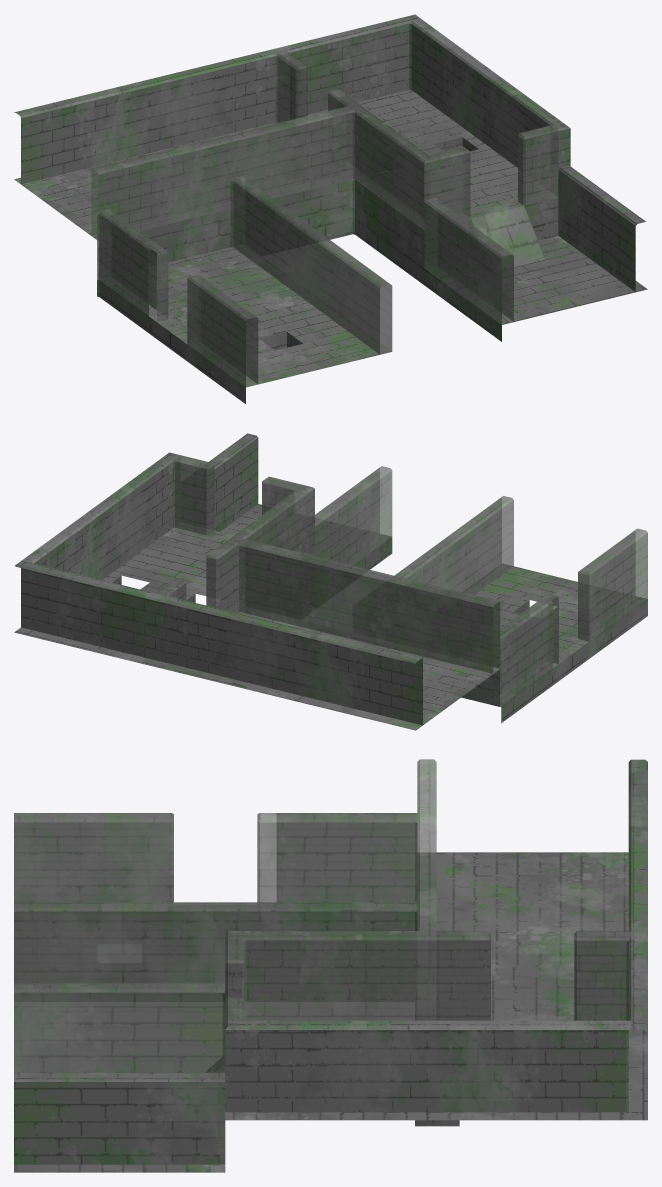
File: lvl_1-cnk_4.obj
The picture shows the model from 3 angles, top to bottom: view 1: azimuth 30°, elevation 25°; view 2: azimuth 150°, elevation 25°; view 3: azimuth 270°, elevation 25°; orthographic projection. The views are drawn at different scales.
Parts seen in each view (by area): view 1: Cube.036, Cube.041, Cube.037, Cube.046, Cube.044, Cube.045, Cube.039, Cube.040, Cube.047, Cube.043, Cube.042; view 2: Cube.037, Cube.041, Cube.036, Cube.044, Cube.046, Cube.040, Cube.045, Cube.047, Cube.039, Cube.043, Cube.042; view 3: Cube.044, Cube.036, Cube.041, Cube.046, Cube.039, Cube.045, Cube.047, Cube.040, Cube.037, Cube.042.
Boxes of the visible parts, x1,y1,x2,y2 form: Cube.036: (14, 90, 647, 403); Cube.041: (91, 89, 470, 240); Cube.037: (14, 14, 419, 184); Cube.046: (230, 176, 392, 354); Cube.044: (409, 18, 570, 196); Cube.045: (424, 198, 513, 324); Cube.039: (558, 165, 645, 291); Cube.040: (187, 275, 258, 386); Cube.047: (97, 209, 168, 322); Cube.043: (518, 125, 558, 205); Cube.042: (275, 51, 307, 122); Cube.037: (15, 560, 422, 725); Cube.041: (206, 476, 500, 673); Cube.036: (14, 504, 647, 730); Cube.044: (22, 452, 180, 579); Cube.046: (394, 496, 513, 595); Cube.040: (578, 528, 647, 641); Cube.045: (315, 466, 392, 565); Cube.047: (493, 594, 558, 706); Cube.039: (209, 433, 258, 531); Cube.043: (173, 454, 214, 535); Cube.042: (156, 578, 186, 600); Cube.044: (225, 1020, 631, 1112); Cube.036: (14, 852, 647, 1172); Cube.041: (225, 759, 490, 1020); Cube.046: (14, 902, 417, 983); Cube.039: (14, 1072, 225, 1164); Cube.045: (14, 983, 225, 1072); Cube.047: (257, 813, 417, 902); Cube.040: (14, 813, 173, 902); Cube.037: (628, 759, 647, 1029); Cube.042: (574, 931, 631, 1020).
Size of the model in its own units: 99.33 by 29.04 by 99.
Materials: 3 (3 with a texture image).
